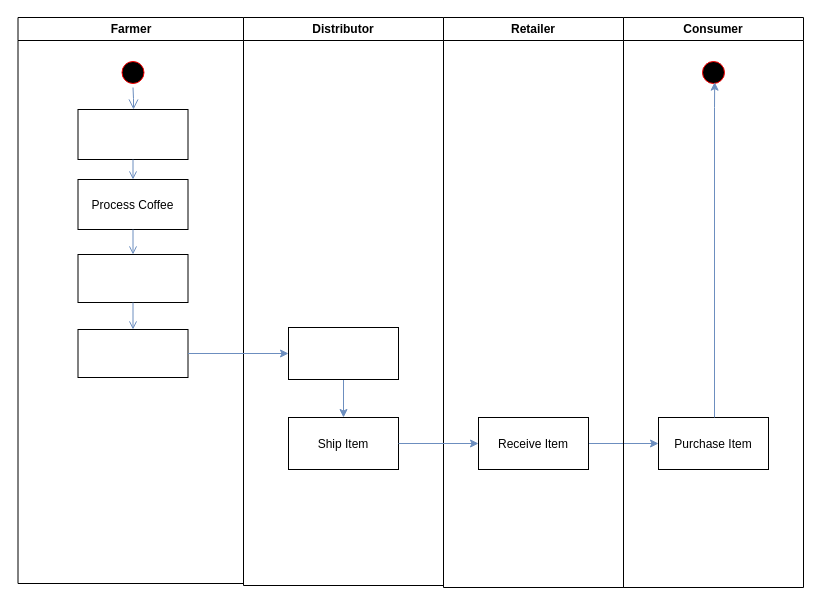
Image size: 821x605. Some labels were removed from this diagram. The shapes that lost their labels are listed below. From the top down, each one's centre as x and y in pixels, then its label:
At point 132,134: "Harvest Coffee".
At point 132,278: "Pack Item".
At point 132,353: "Add Item to Sale".
At point 343,353: "Buy Item".
